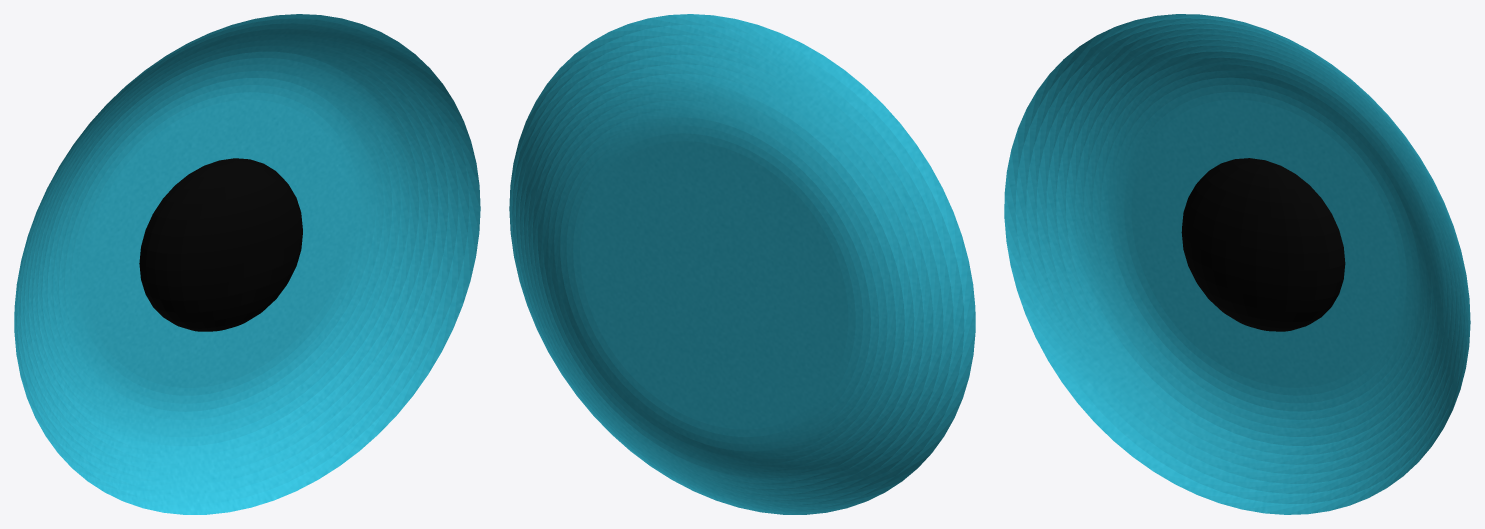
Rendered from Portal.fbx.
The picture shows the model from 3 angles, left to right: view 1: azimuth 30°, elevation 25°; view 2: azimuth 150°, elevation 25°; view 3: azimuth 330°, elevation 25°; orthographic projection.
Parts seen in each view (by area): view 1: vortex, Sphere; view 2: vortex; view 3: vortex, Sphere.
Part boxes in pixels (x1,y1,x2,y2): vortex: [14, 14, 480, 514]; Sphere: [139, 158, 302, 331]; vortex: [509, 14, 975, 514]; vortex: [1004, 14, 1470, 514]; Sphere: [1181, 158, 1345, 331].
Size of the model in its own units: 2521 by 2521 by 265.
